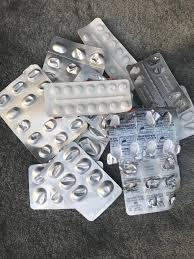pill_Strip: (0, 65, 86, 162), (109, 109, 179, 214), (43, 142, 121, 220), (128, 53, 190, 112), (72, 148, 121, 220), (78, 18, 135, 79), (108, 108, 177, 158), (121, 159, 179, 215), (44, 79, 131, 116), (121, 161, 179, 215), (43, 36, 104, 81), (129, 53, 178, 106), (122, 174, 176, 215), (48, 36, 104, 72), (28, 163, 72, 208), (135, 108, 177, 155), (28, 164, 71, 209), (76, 114, 118, 160), (77, 114, 119, 159), (43, 53, 105, 81), (129, 62, 165, 106), (137, 113, 174, 154), (139, 159, 179, 196), (76, 115, 108, 160), (130, 66, 165, 107), (108, 110, 136, 160), (124, 191, 175, 215), (43, 52, 85, 81), (76, 125, 108, 160), (176, 86, 193, 139), (56, 117, 87, 145), (81, 114, 119, 136), (134, 85, 165, 107), (81, 115, 107, 138), (176, 106, 193, 139), (73, 66, 106, 81), (102, 114, 119, 129), (110, 138, 121, 160), (180, 85, 192, 105), (132, 90, 141, 107), (106, 153, 117, 164), (72, 118, 79, 127), (96, 160, 103, 168)
